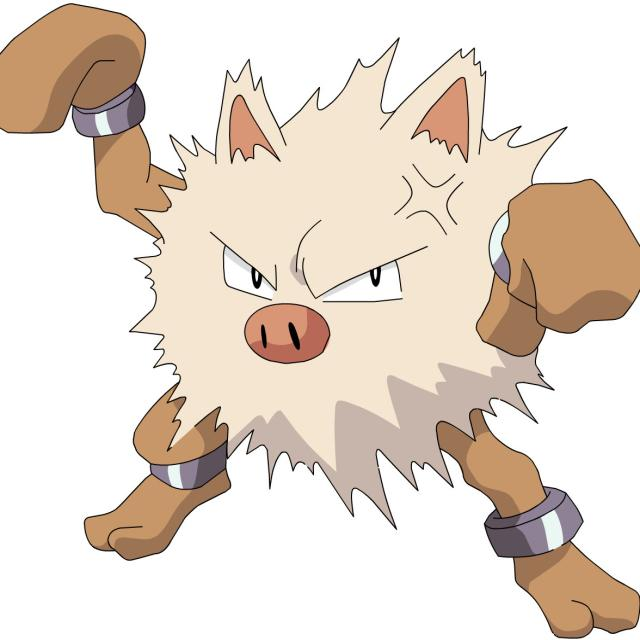Primeape: (95, 59, 564, 555)
